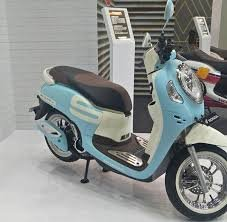motor: (34, 37, 227, 218)
